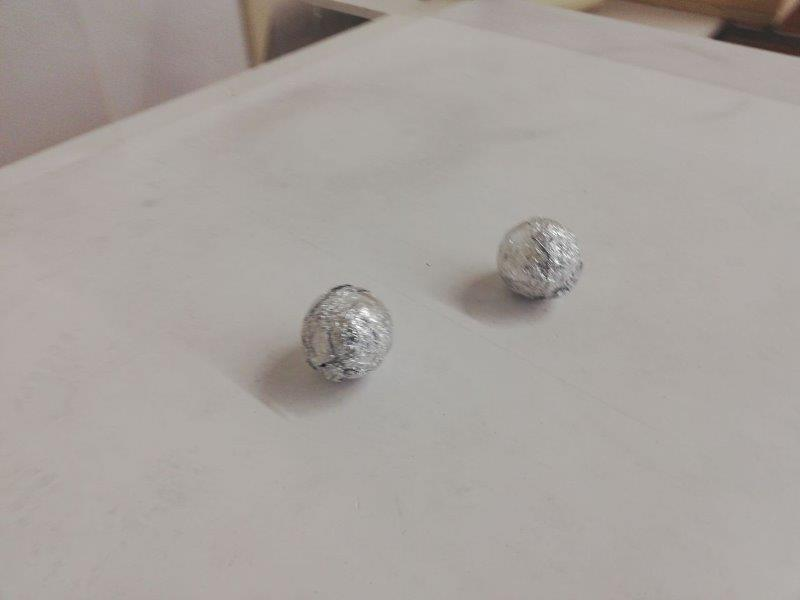bianca: (298, 289, 396, 380), (499, 213, 582, 299)
